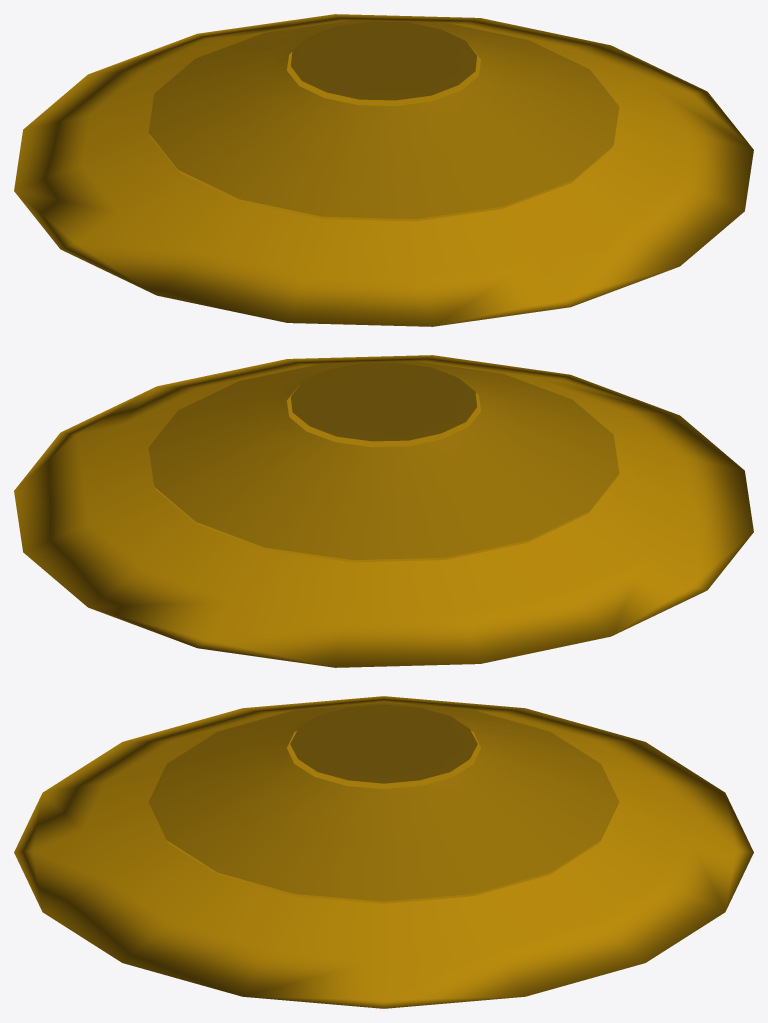
File: anthole.glb
The picture shows the model from 3 angles, top to bottom: view 1: azimuth 30°, elevation 25°; view 2: azimuth 150°, elevation 25°; view 3: azimuth 270°, elevation 25°; orthographic projection.
Parts seen in each view (by area): view 1: Cylinder.008; view 2: Cylinder.008; view 3: Cylinder.008.
Boxes of the visible parts, box(x1,y1,x2,y2) form: Cylinder.008: box(14, 14, 753, 326); Cylinder.008: box(14, 355, 753, 667); Cylinder.008: box(14, 696, 753, 1008).
Size of the model in its own units: 4.4 by 0.7123 by 4.4.
